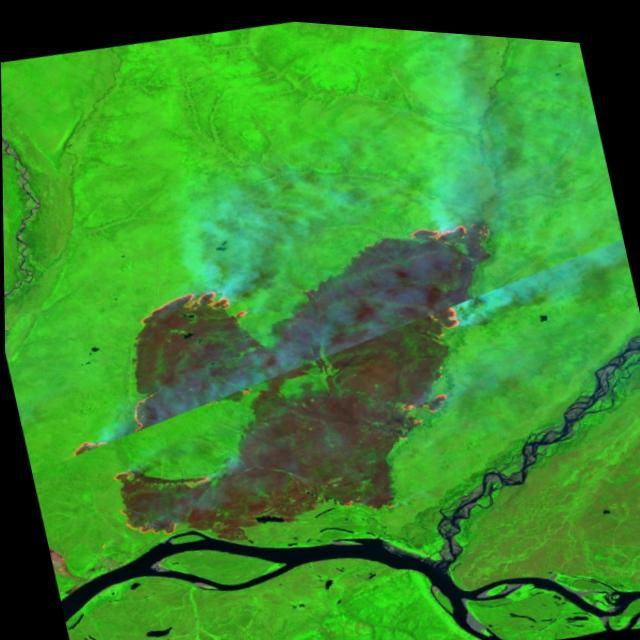fire: (23, 164, 557, 584)
